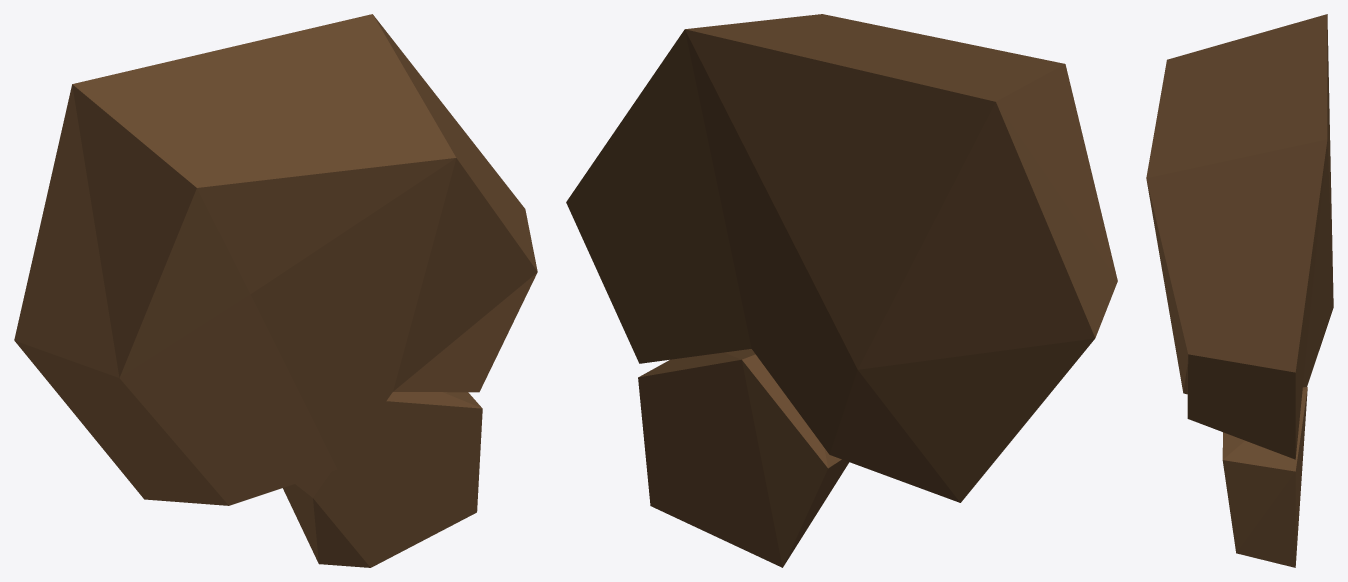
File: boulder1.glb
3 views of the same model, side by side, from view 1: azimuth 30°, elevation 25°; view 2: azimuth 150°, elevation 25°; view 3: azimuth 270°, elevation 25° (orthographic). The views are drawn at different scales.
Parts seen in each view (by area): view 1: stone-flat_brown; view 2: stone-flat_brown; view 3: stone-flat_brown.
Part boxes in pixels (x1=…): stone-flat_brown: x1=14, y1=14, x2=537, y2=567; stone-flat_brown: x1=566, y1=14, x2=1117, y2=567; stone-flat_brown: x1=1146, y1=14, x2=1333, y2=567.
Size of the model in its own units: 2.32 by 2.26 by 0.8823.
Materials: 1 (1 with a texture image).
